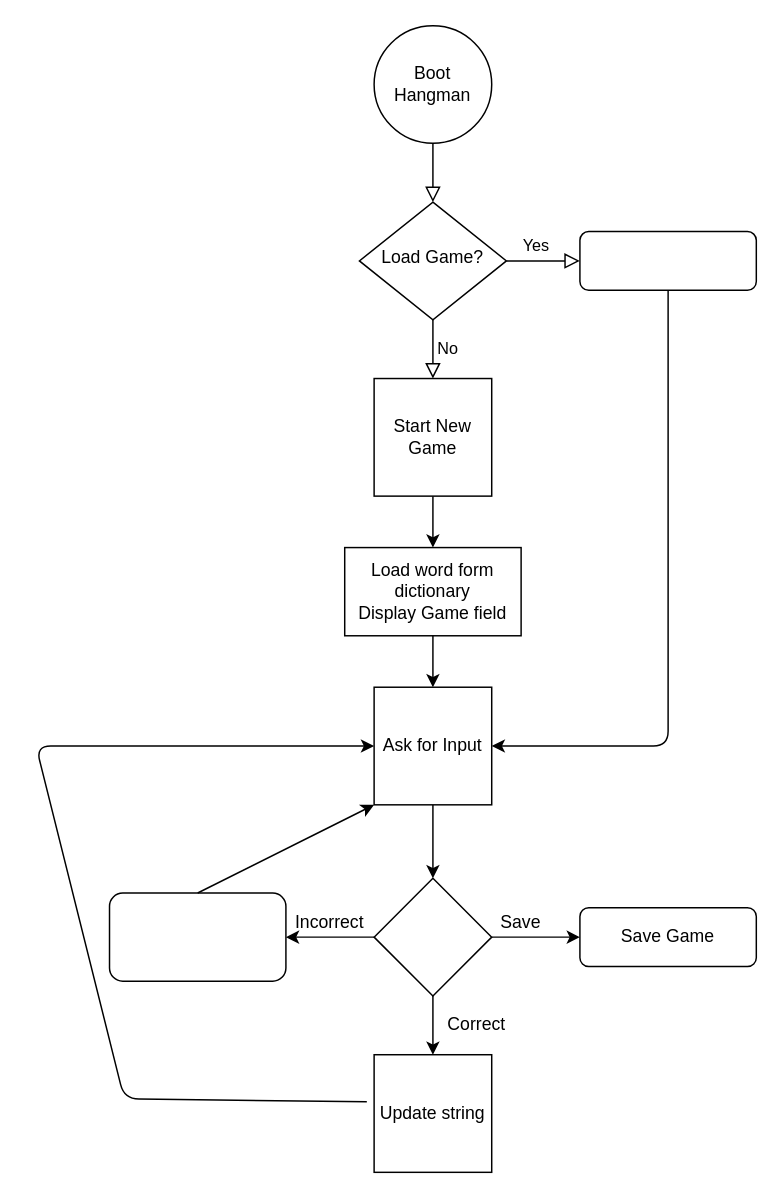
Image size: 782x1198. Some labels were removed from this diagram. The shapes that lost their labels are listed below. From the top down, each one's centre as x and y in pixels, then its label:
pixel 667 260: Loads Previous Game
pixel 197 936: Turns-- Draw man
pixel 432 936: Check input
